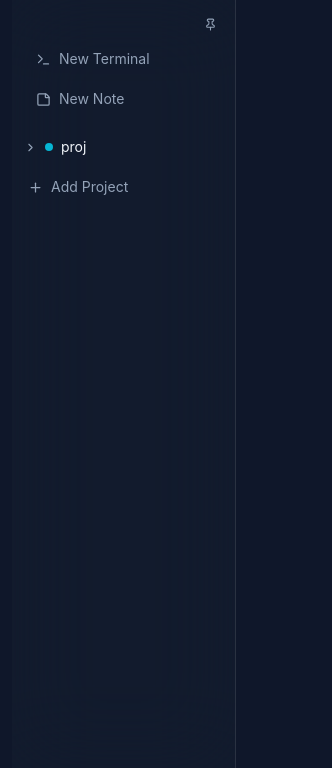
it: Sidebar context menu portal › renders the project context menu as a direct child of document.body
Right-click the button "proj" at (96, 147), box [20,129,171,165]
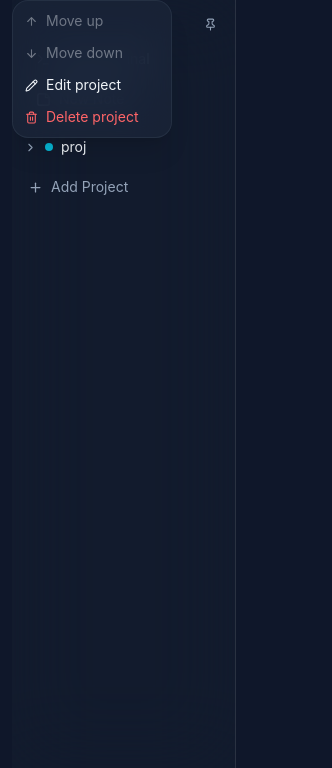
Expected: the text "Edit project" is shown, [13,69,171,101]
